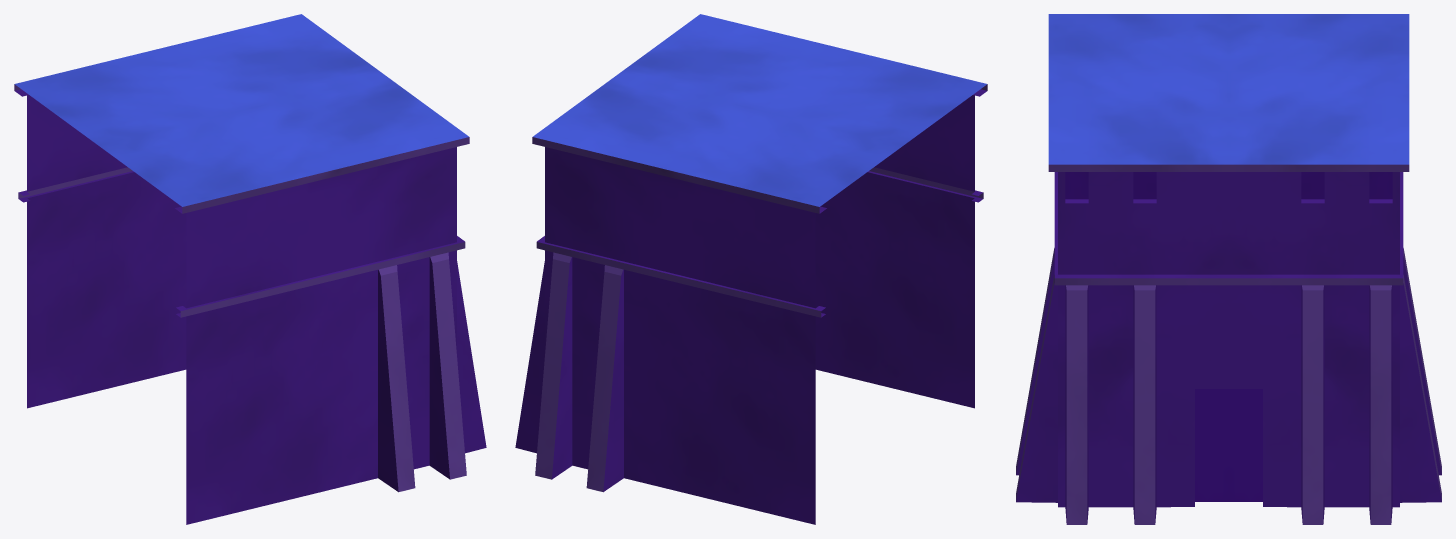
File: SM_Building_B.fbx
The picture shows the model from 3 angles, left to right: view 1: azimuth 30°, elevation 25°; view 2: azimuth 150°, elevation 25°; view 3: azimuth 270°, elevation 25°; orthographic projection. The views are drawn at different scales.
Visible parts, largest first — view 1: building_B; view 2: building_B; view 3: building_B.
Boxes of the visible parts, x1,y1,x2,y2 form: building_B: (14,14,486,524); building_B: (515,14,987,524); building_B: (1016,14,1441,524).
Bounding box in the file's own units: 11.64 × 11.5 × 12.79.
